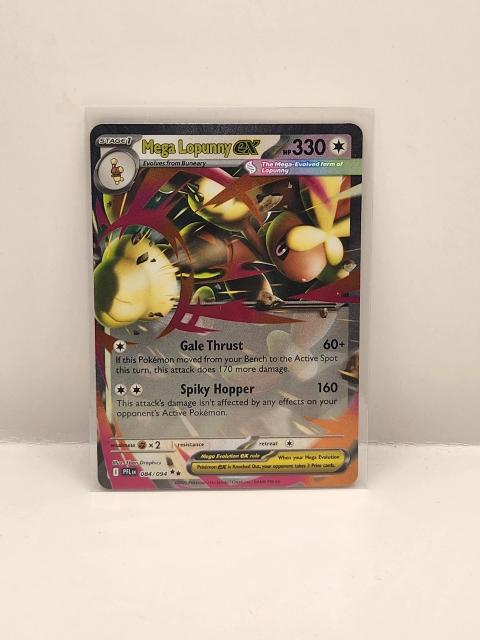Card: (87, 120, 366, 493)
Name: (137, 134, 263, 160)
